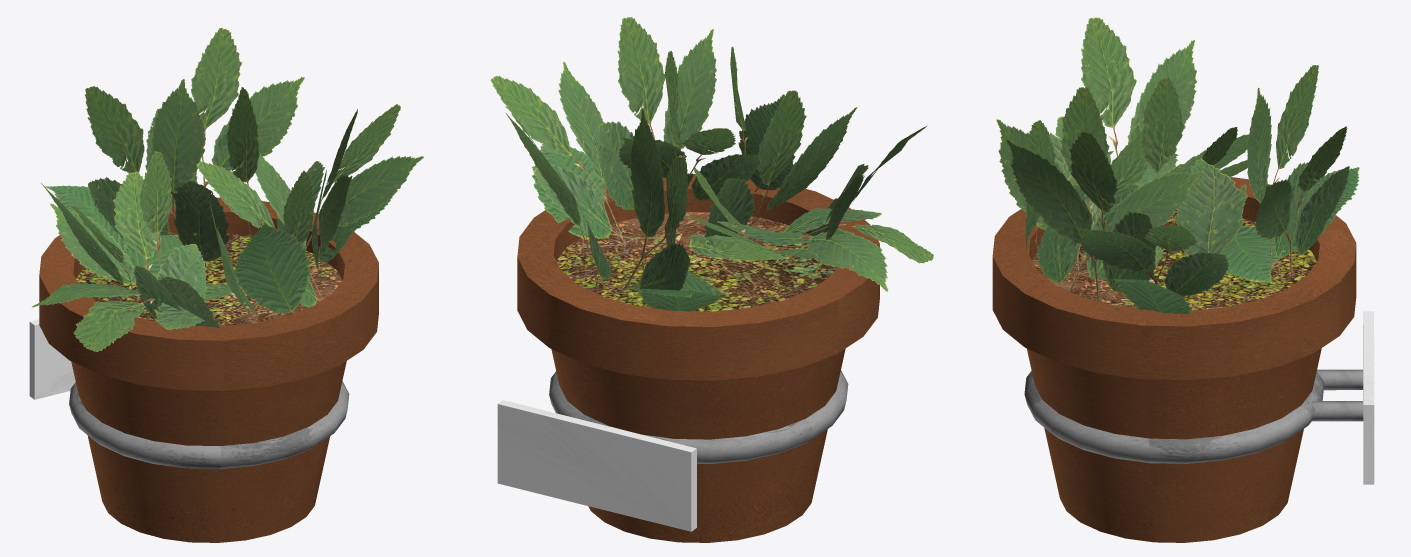
Rendered from Wall Plant 2.fbx.
3 renders of one model, left to right at view 1: azimuth 30°, elevation 25°; view 2: azimuth 150°, elevation 25°; view 3: azimuth 270°, elevation 25°, orthographic. The views are drawn at different scales.
Visible parts, largest first — view 1: Wall Plant 2; view 2: Wall Plant 2; view 3: Wall Plant 2.
Boxes of the visible parts, x1=… form: Wall Plant 2: x1=29, y1=27, x2=423, y2=542; Wall Plant 2: x1=490, y1=17, x2=933, y2=542; Wall Plant 2: x1=992, y1=17, x2=1374, y2=542.
Size of the model in its own units: 36.67 by 37.01 by 31.59.
